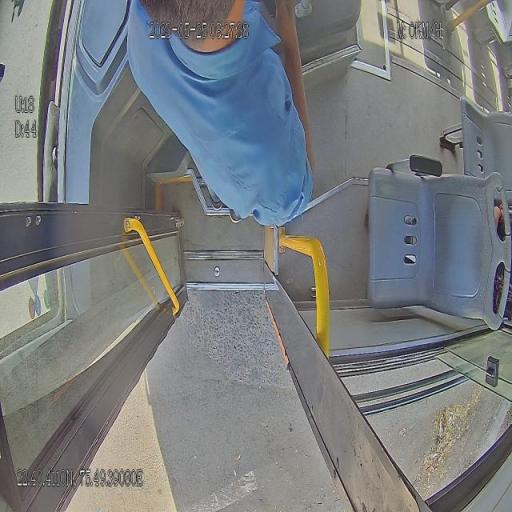persona: (126, 0, 316, 227)
